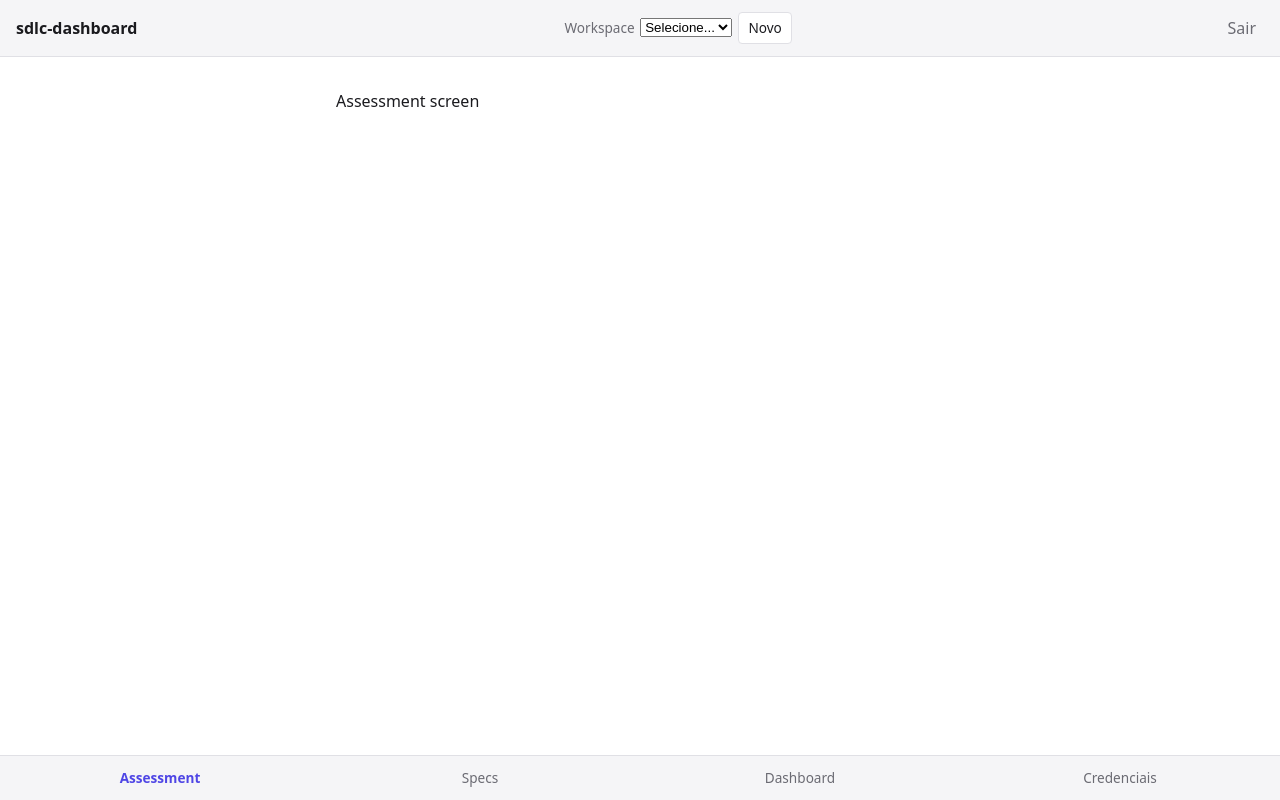
Test: Layout › "Cancelar" closes the new-workspace form without creating anything
expect the text "Assessment screen" is shown: met, box [336,90,479,112]
Click the button "Novo" at (765, 28), box [738,12,792,44]
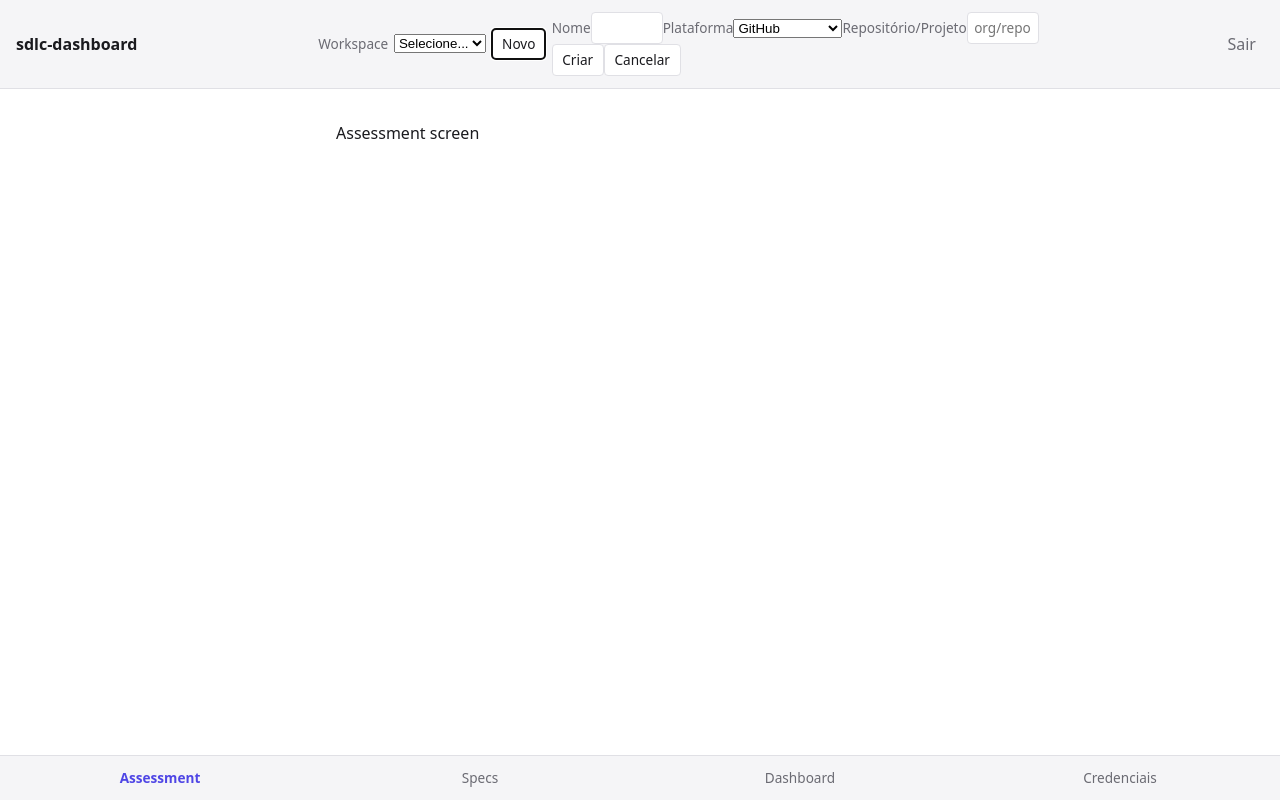
Click the button "Cancelar" at (642, 60), box [604,44,681,76]
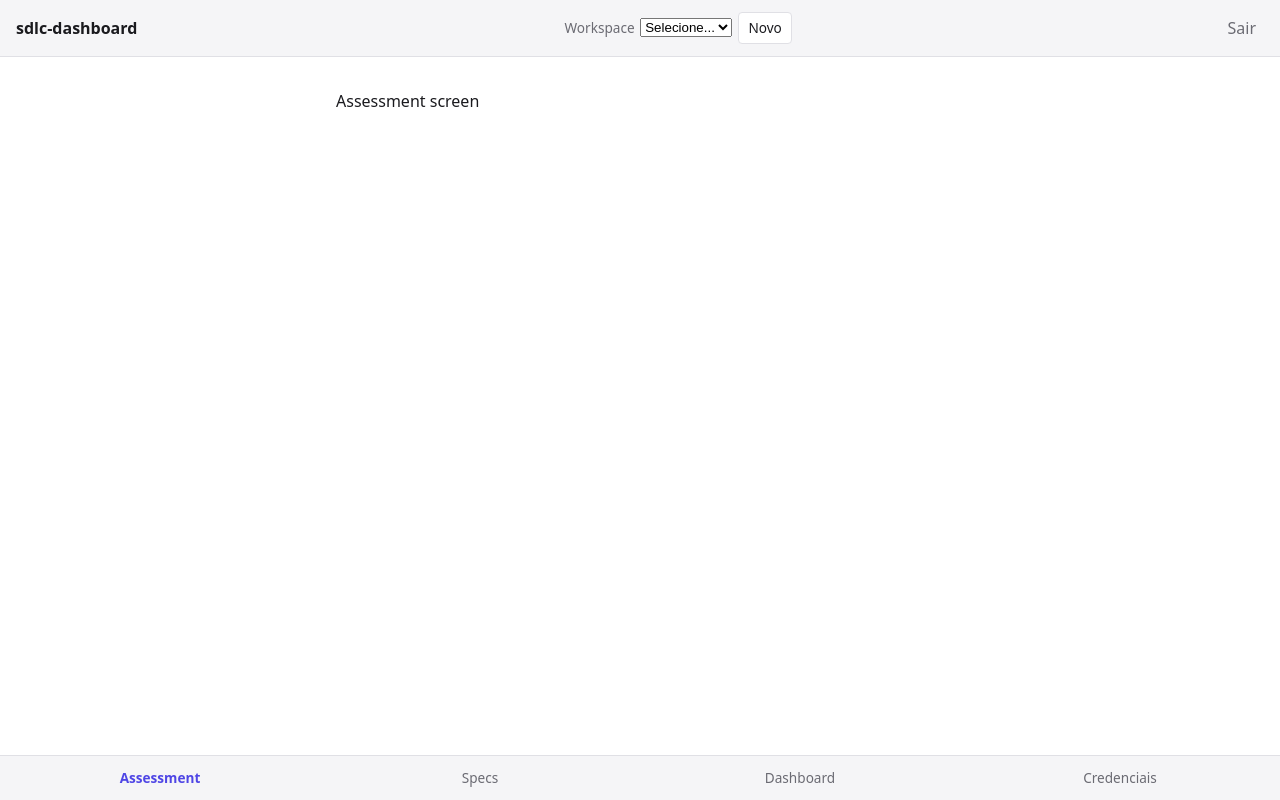
expect the label labelled "Nome" is gone: met
